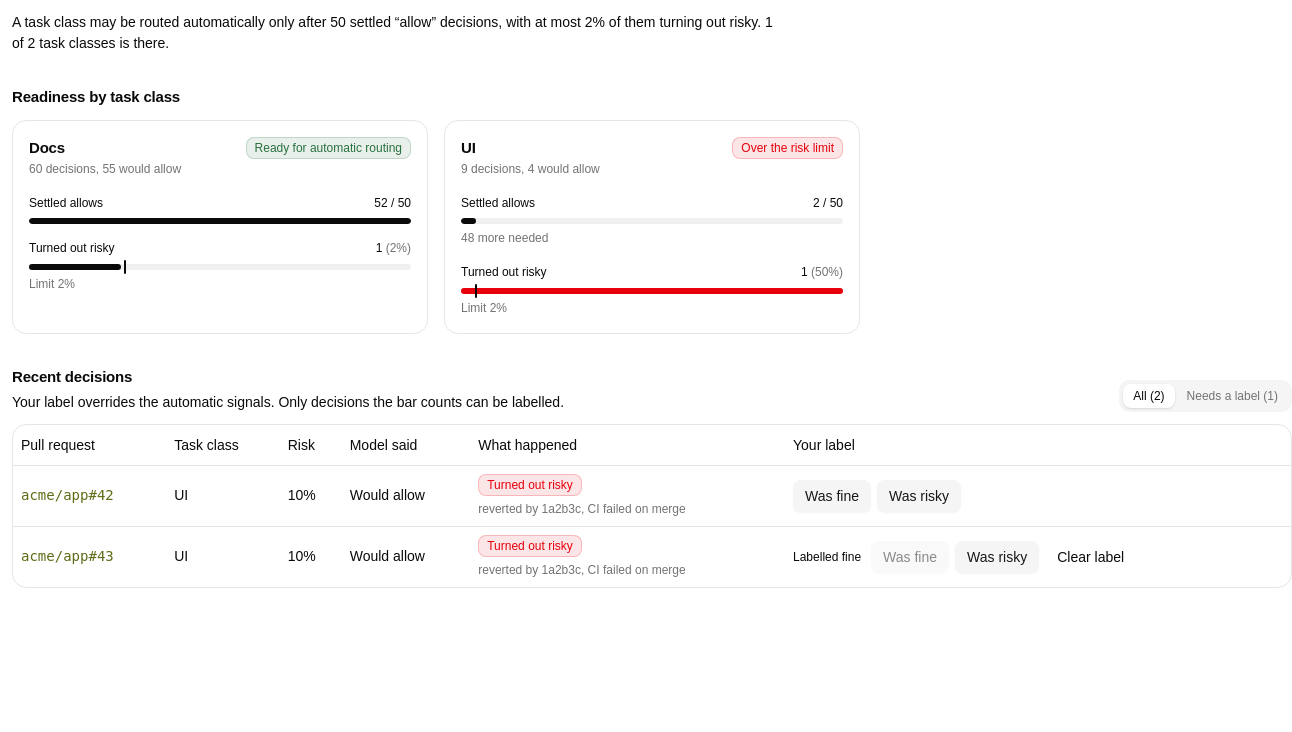
Scenario: ShadowRouterPanel › filters the feed to decisions that need a label
This screenshot has width=1292, height=732.
Check: the number of rows is 3, box x1=13 y1=425 x2=1291 y2=465; x1=13 y1=465 x2=1291 y2=526; x1=13 y1=526 x2=1291 y2=587
Click the button "Needs a label (1)" at (1232, 396), box x1=1177 y1=384 x2=1288 y2=408
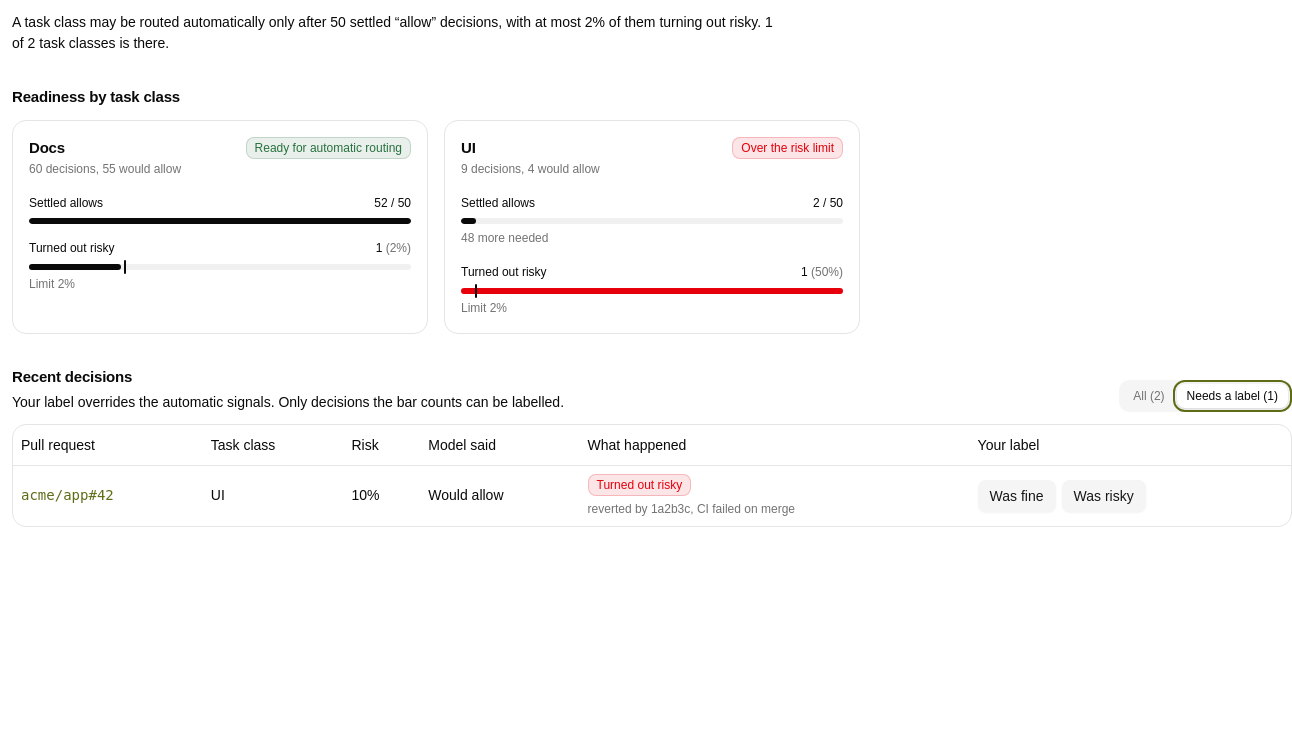
Check: the number of rows is 2, box x1=13 y1=425 x2=1291 y2=465; x1=13 y1=465 x2=1291 y2=526
Check: the link "acme/app#43" is gone
